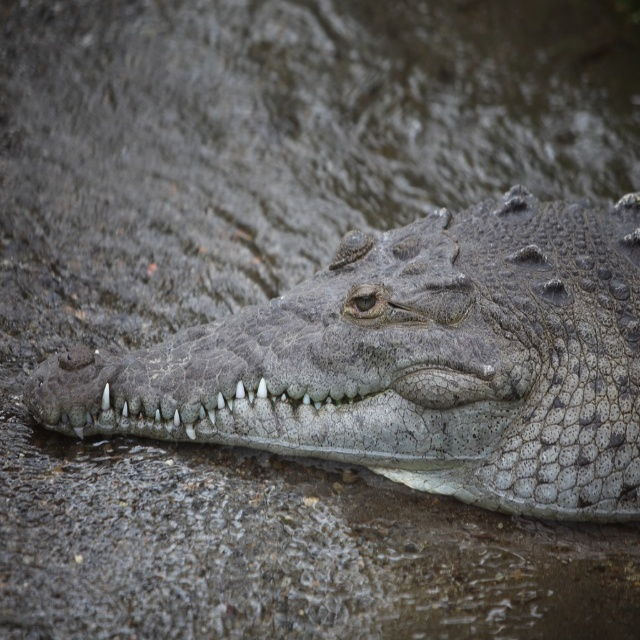Crocodile: (24, 185, 640, 525)
